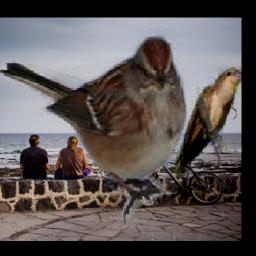Cuckoo: (170, 67, 242, 179)
Sparrow: (0, 29, 188, 228)
